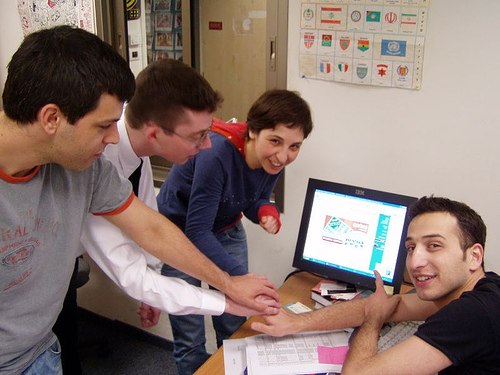without_mask: (32, 75, 121, 176), (402, 212, 484, 300), (143, 97, 213, 166), (249, 116, 307, 175)
